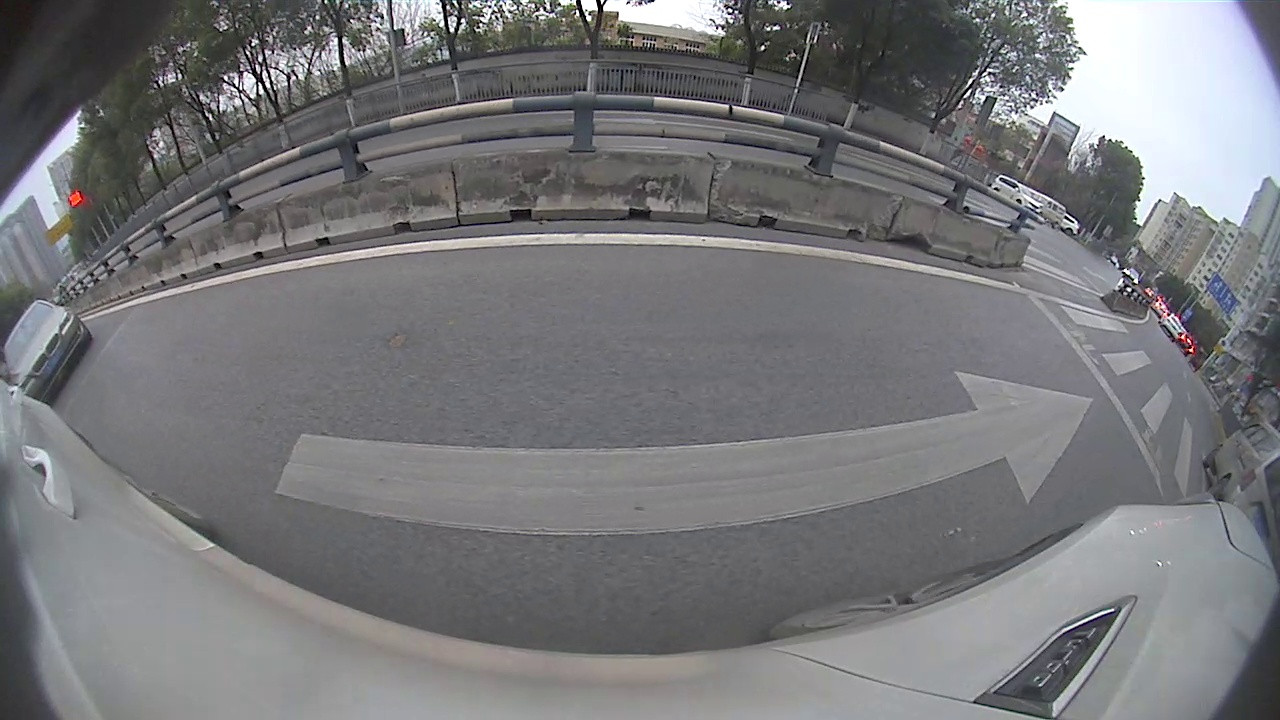car: (1193, 397, 1278, 566), (1, 296, 94, 412)
